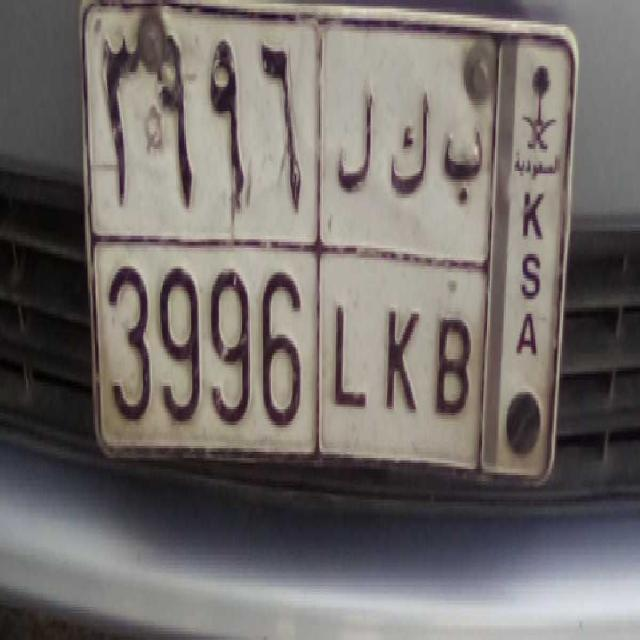license_plate: (95, 228, 480, 464)
